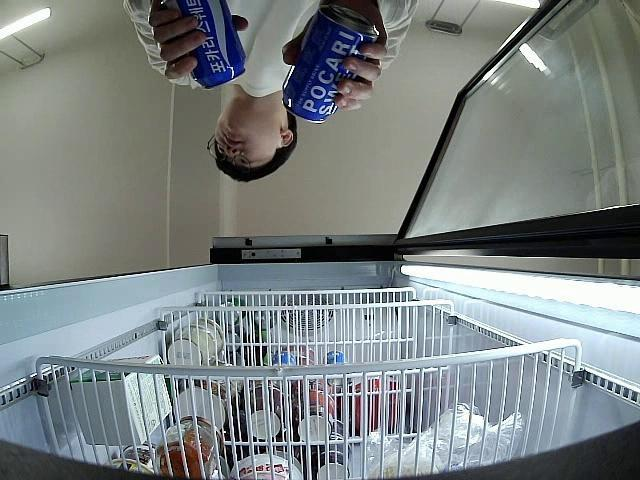13_pocariSweat: (281, 6, 380, 125), (159, 0, 246, 90)
